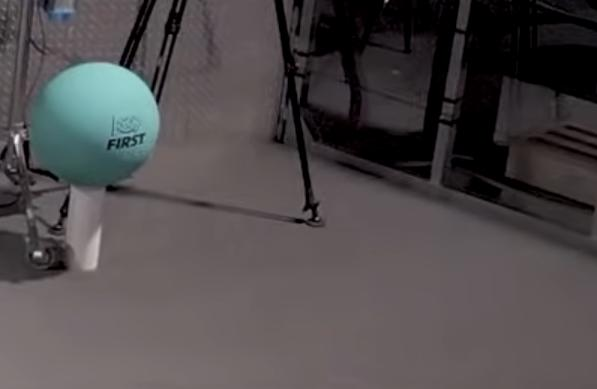algae: (30, 62, 160, 185)
coral: (64, 184, 105, 272)
